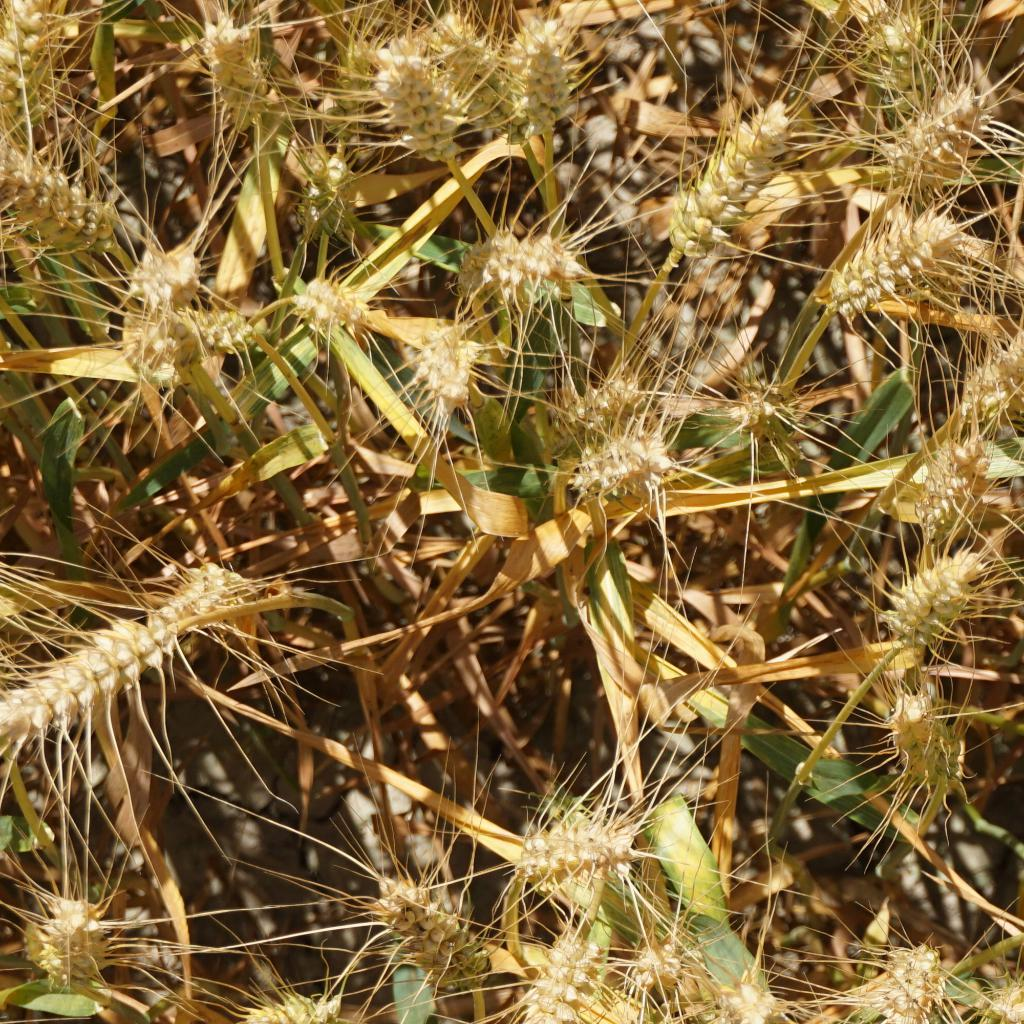0-0: (642, 79, 785, 254), (0, 612, 175, 740), (798, 203, 947, 314), (504, 792, 649, 899), (0, 141, 113, 254), (373, 34, 465, 169), (877, 547, 995, 650), (442, 23, 532, 156), (376, 875, 484, 984), (843, 937, 962, 1024), (16, 880, 110, 984), (887, 90, 985, 189), (397, 320, 484, 431), (498, 30, 580, 144), (157, 542, 271, 624), (0, 0, 67, 137), (467, 226, 574, 310), (195, 17, 276, 126), (912, 435, 993, 535), (879, 686, 964, 780), (865, 16, 941, 118), (562, 432, 677, 493), (955, 325, 1024, 418), (544, 371, 643, 432), (117, 240, 210, 303), (524, 936, 589, 1024), (726, 372, 800, 449), (294, 146, 354, 240), (118, 309, 203, 372), (289, 273, 370, 337), (188, 302, 263, 363), (252, 988, 356, 1024), (630, 940, 694, 998), (724, 972, 787, 1024), (972, 972, 1024, 1024), (694, 1005, 769, 1024)
